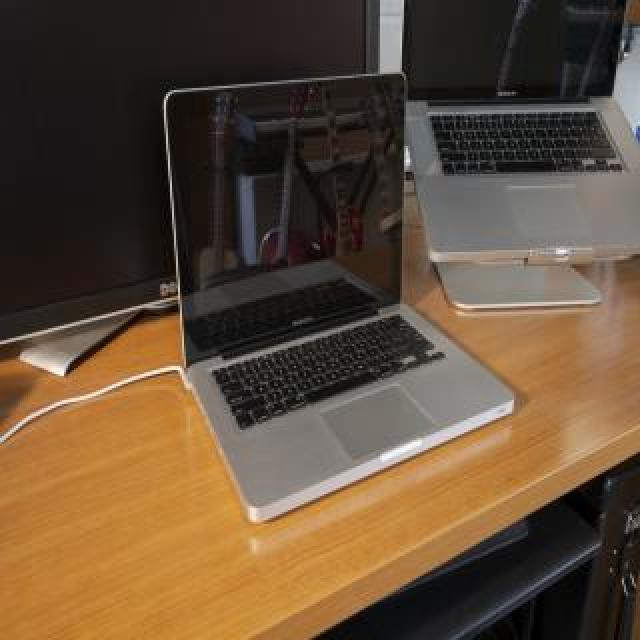laptop_computer: (146, 76, 539, 563), (0, 0, 380, 373), (395, 5, 640, 345)
